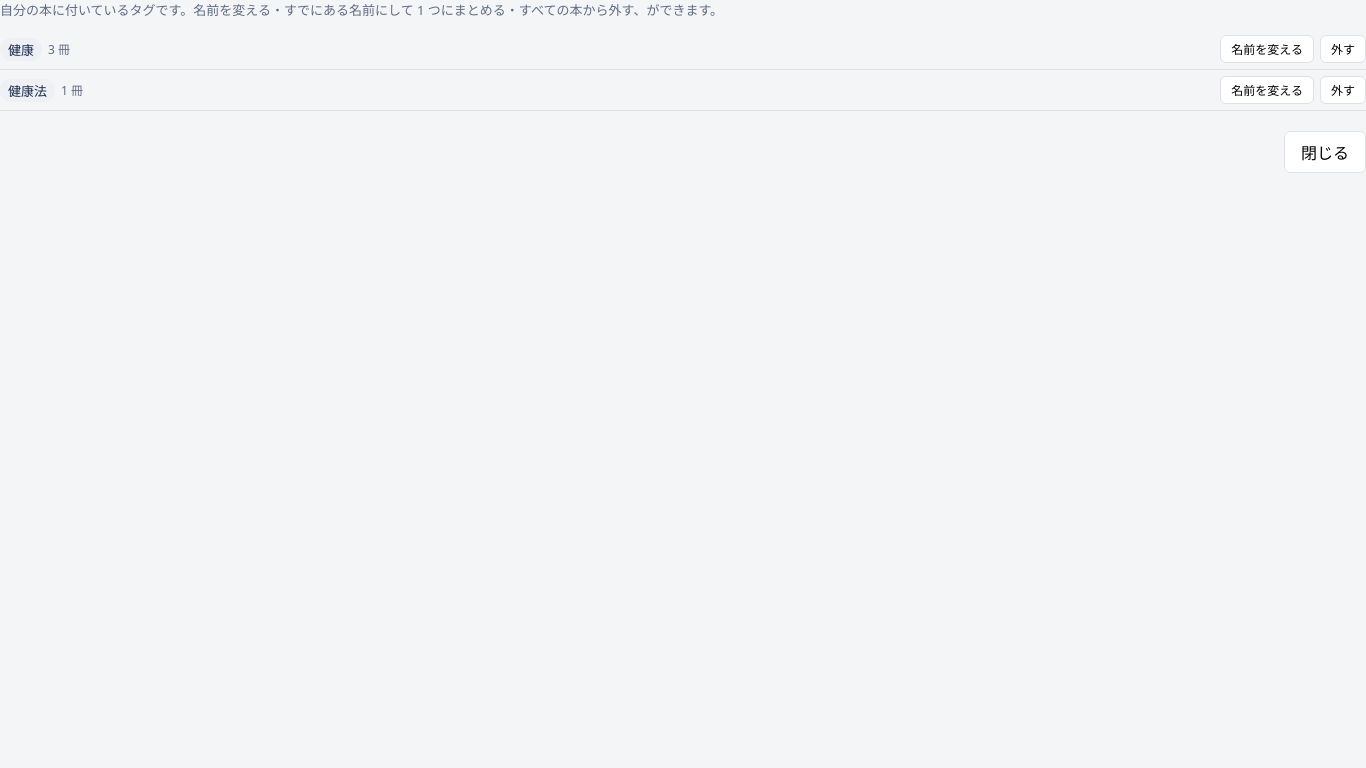
it: TagsPanel（タグの管理） › 「外す」は確認を出し、確認してから外す
Click the button "外す" in the row of "3 冊".
click(1343, 49)  # box [1320,35,1365,63]
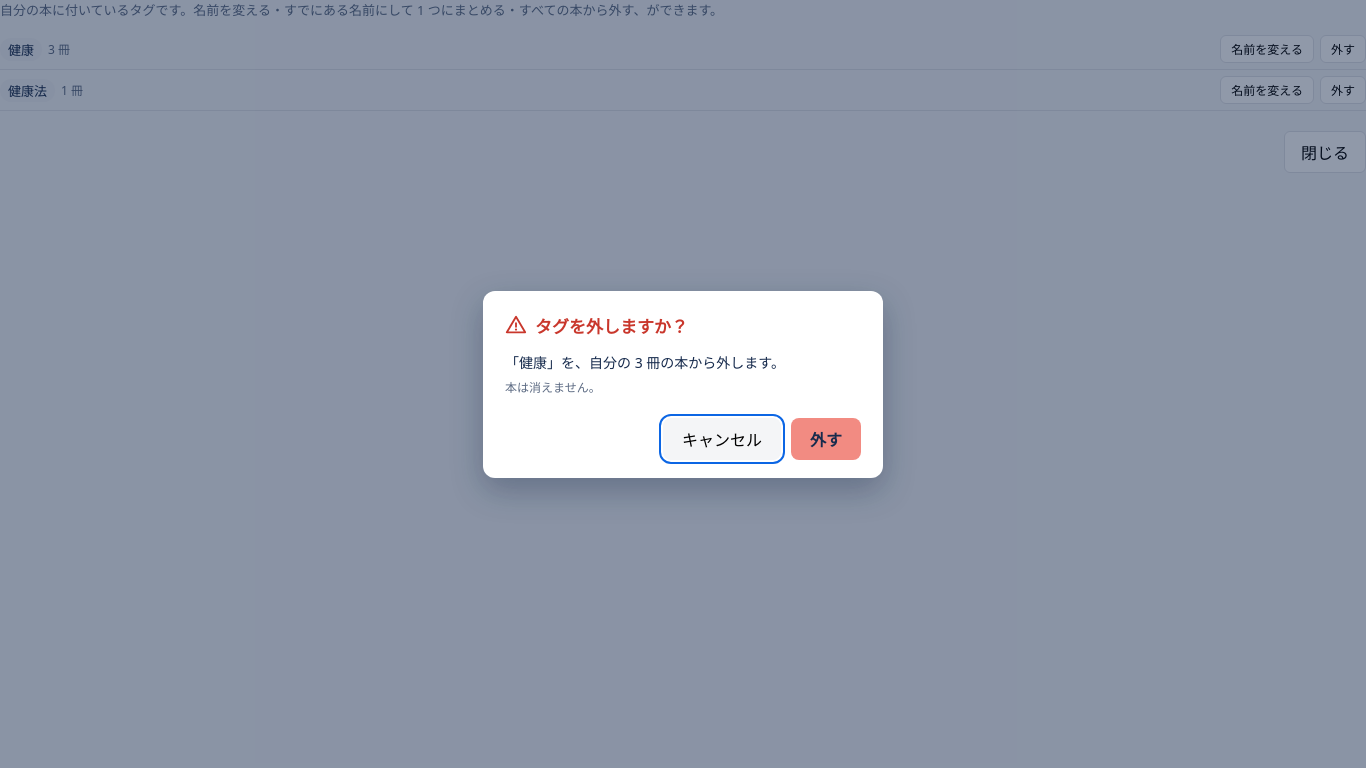
Now the dialog shows "「健康」を、自分の 3 冊の本から外します。", box [505,352,785,372]
Click the button "外す".
click(826, 438)  # box [791,418,861,460]
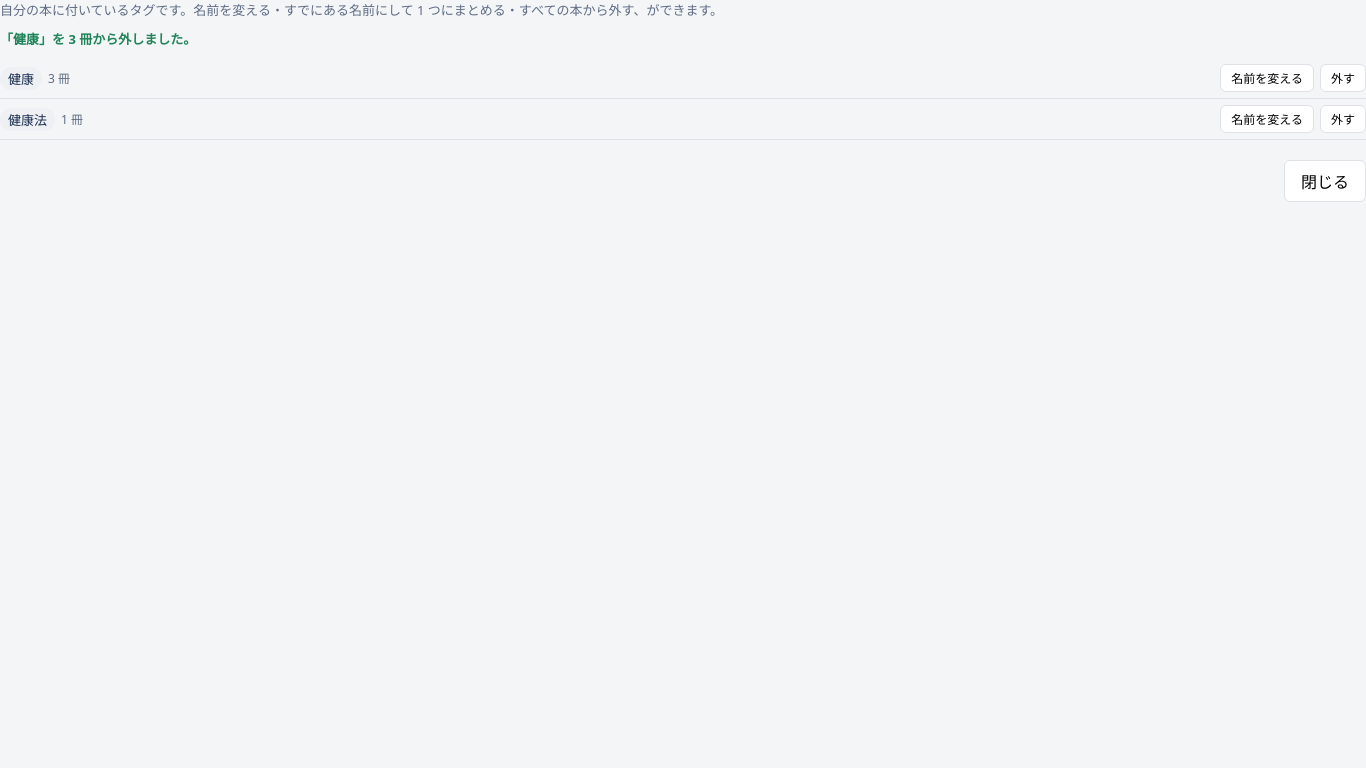
Now the message with class "done-message" reads "「健康」を 3 冊から外しました。", box [0,30,196,48]
